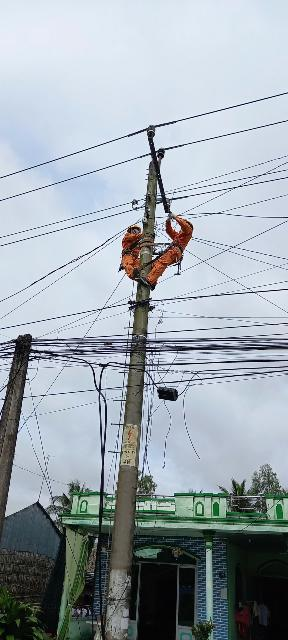gloves: (167, 212, 178, 219), (165, 215, 175, 221)
harness: (166, 241, 186, 256), (122, 250, 142, 259)
helmet: (179, 216, 197, 231), (128, 223, 143, 233)
shoes: (138, 276, 150, 286), (146, 281, 156, 291), (131, 267, 139, 278), (133, 277, 146, 281)
